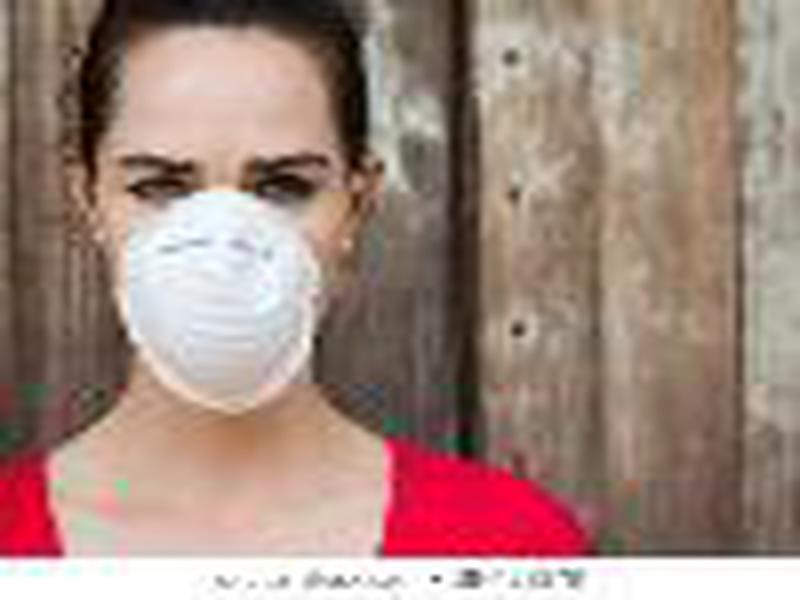with_mask: (95, 23, 355, 418)
